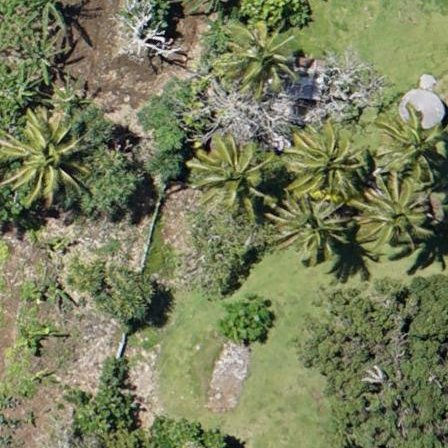palm_tree: (3, 108, 88, 196), (358, 174, 432, 250), (290, 121, 360, 195), (194, 135, 263, 208), (274, 195, 348, 263), (374, 106, 440, 176), (227, 20, 291, 88)
